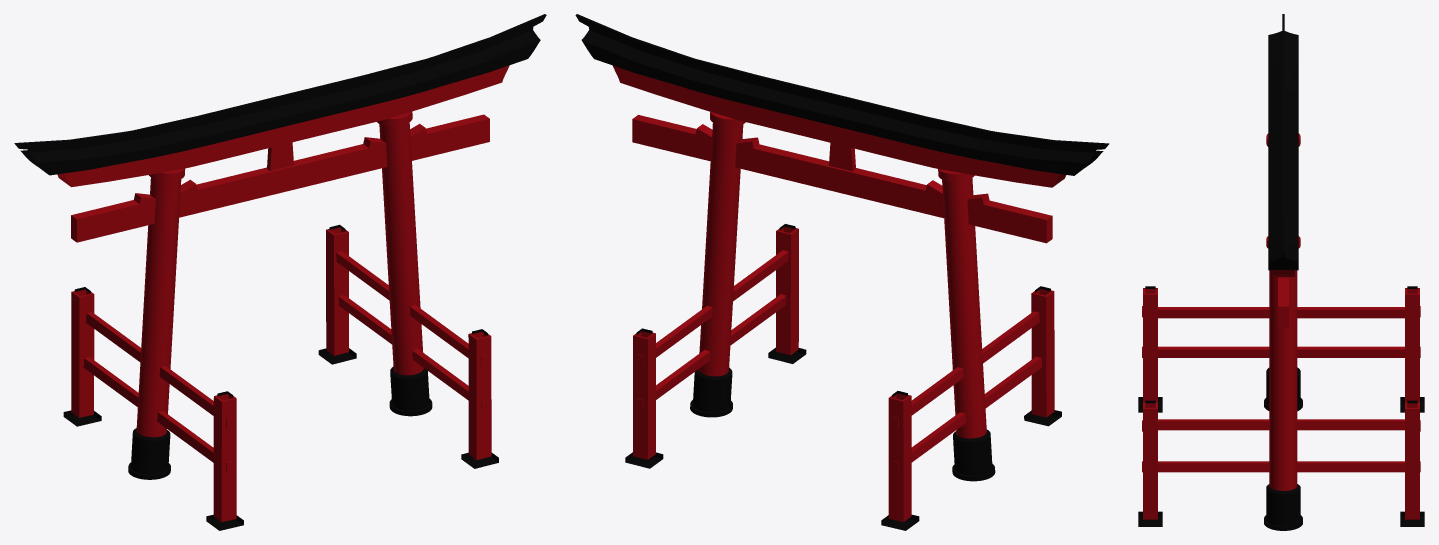
The model's file is Ryoubu_1.fbx.
3 renders of one model, left to right at view 1: azimuth 30°, elevation 25°; view 2: azimuth 150°, elevation 25°; view 3: azimuth 270°, elevation 25°, orthographic. The views are drawn at different scales.
Parts seen in each view (by area): view 1: Cube.032; view 2: Cube.032; view 3: Cube.032.
Part boxes in pixels (bbox=[...]): Cube.032: bbox=[14, 14, 546, 530]; Cube.032: bbox=[575, 14, 1109, 530]; Cube.032: bbox=[1138, 14, 1424, 530].
Bounding box in the file's own units: 2047 × 1327 × 1041.
